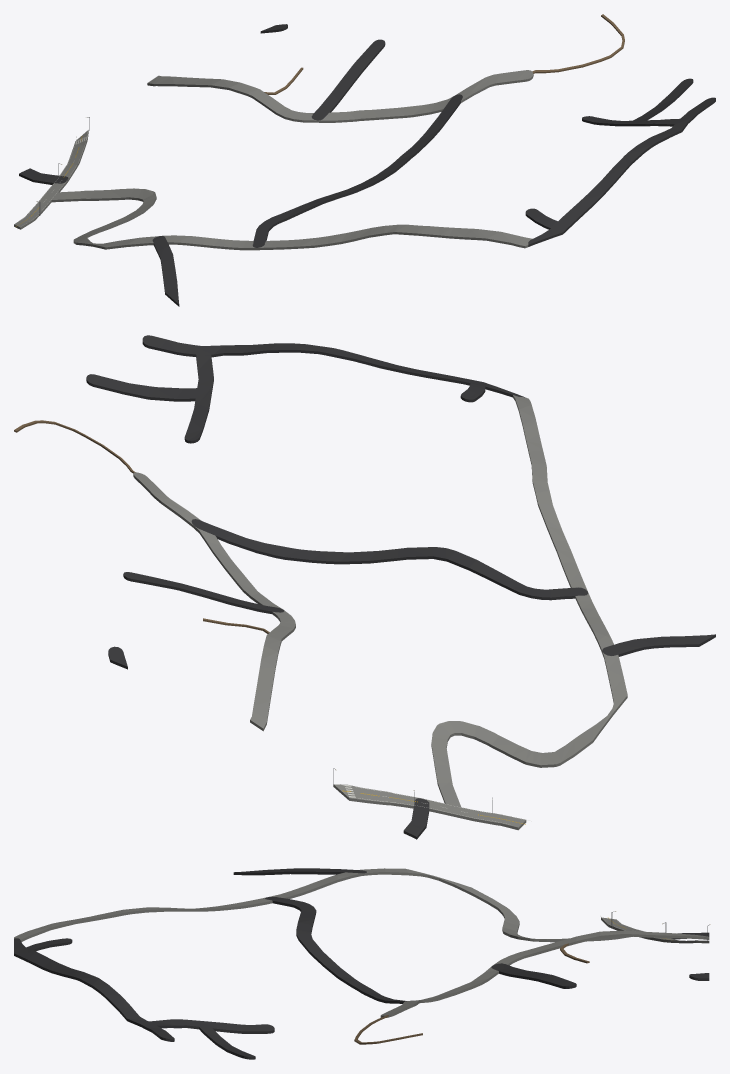
3 renders of one model, top to bottom at view 1: azimuth 30°, elevation 25°; view 2: azimuth 150°, elevation 25°; view 3: azimuth 270°, elevation 25°, orthographic. The views are drawn at different scales.
Bounding box in the file's own units: 294 × 80.65 × 294.
